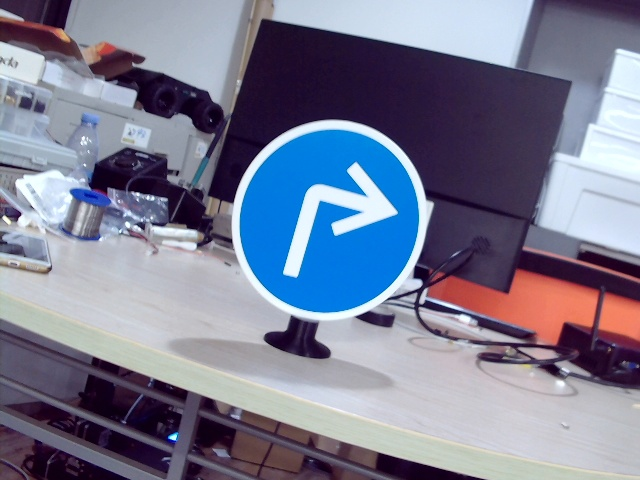turn_right: (285, 159, 396, 287)
